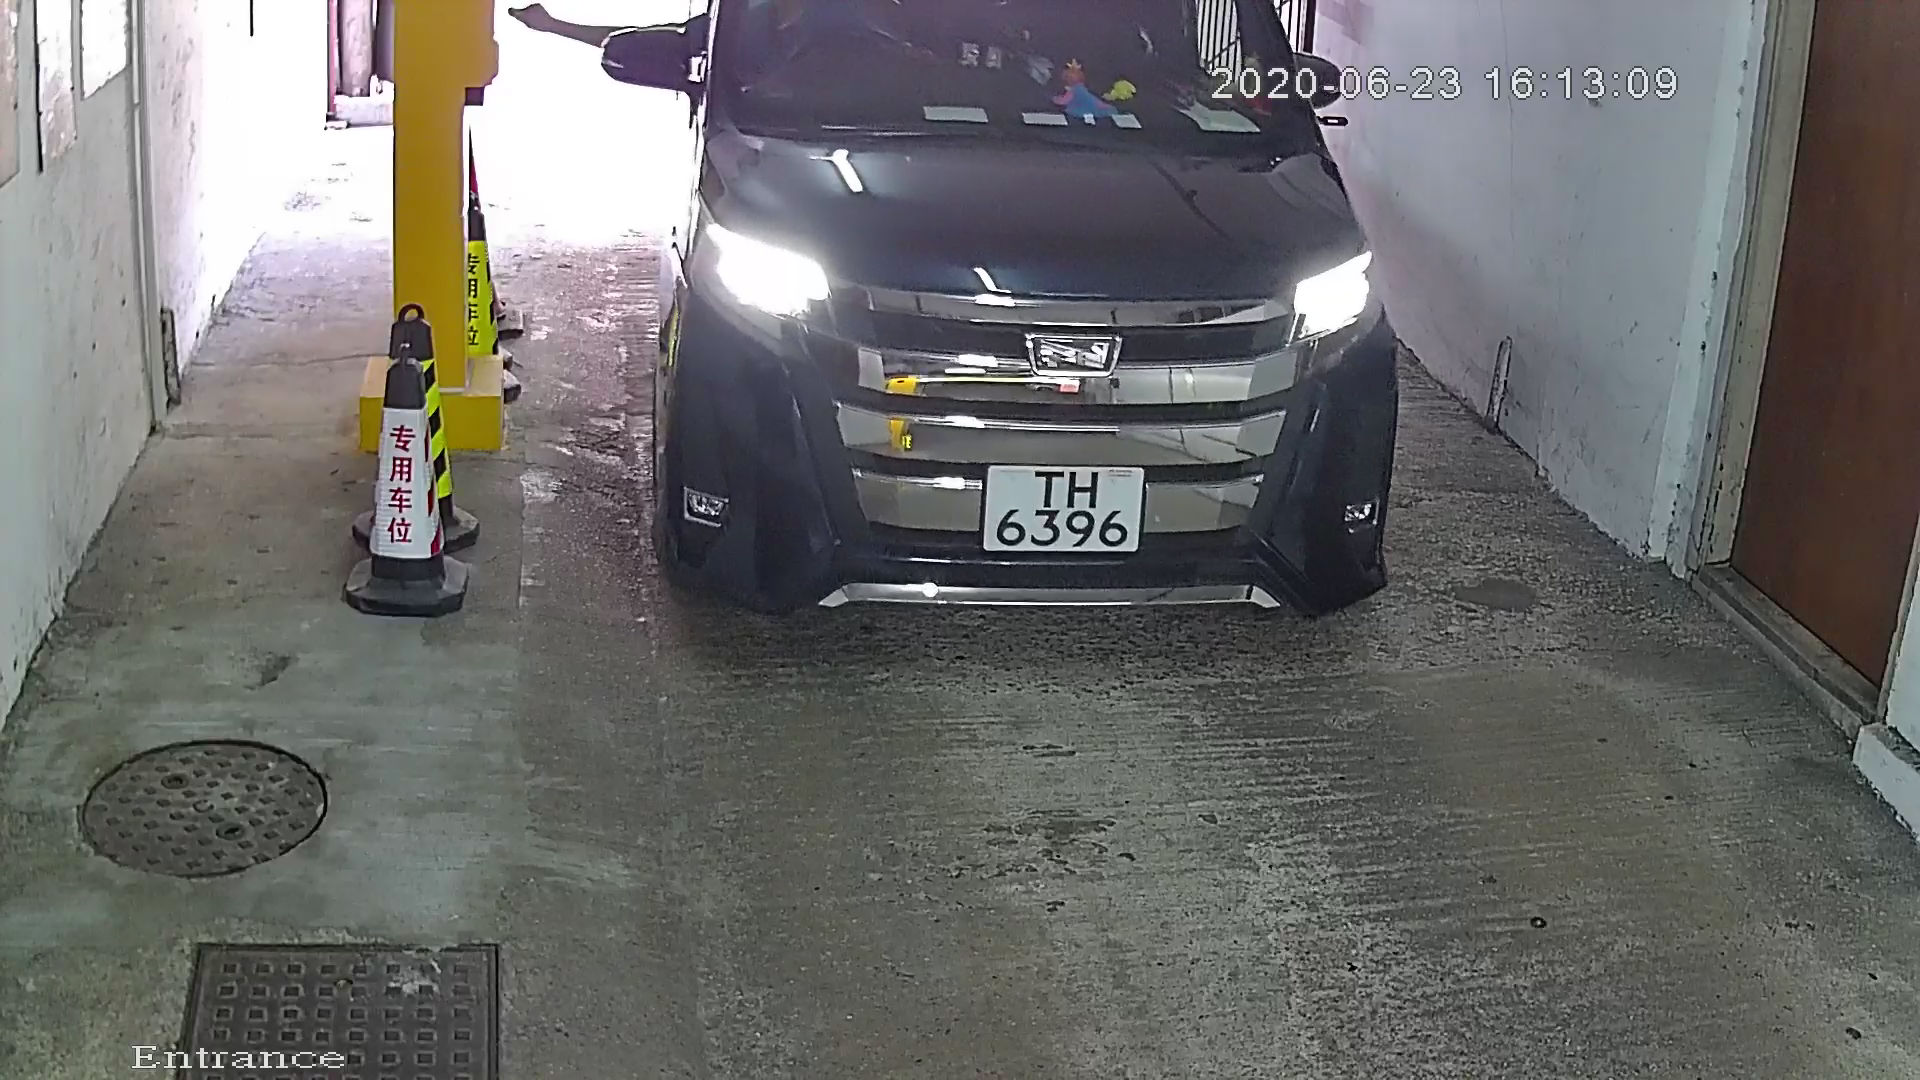privatecar: (582, 1, 1437, 665)
